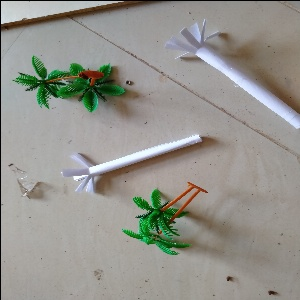plant: (108, 180, 224, 258), (7, 54, 133, 113)
weed: (154, 16, 300, 130), (56, 136, 206, 187)
